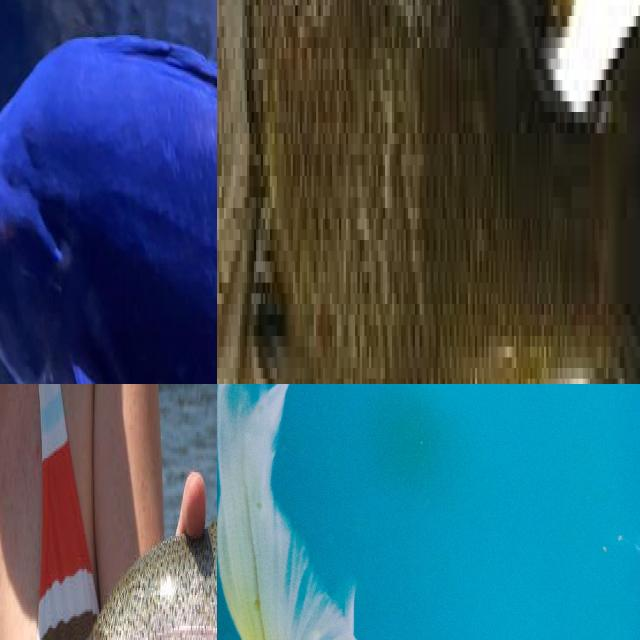fish: (217, 384, 640, 640), (358, 0, 579, 384), (0, 0, 217, 384), (47, 477, 217, 640)
